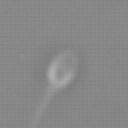normal: (24, 85, 58, 128)
